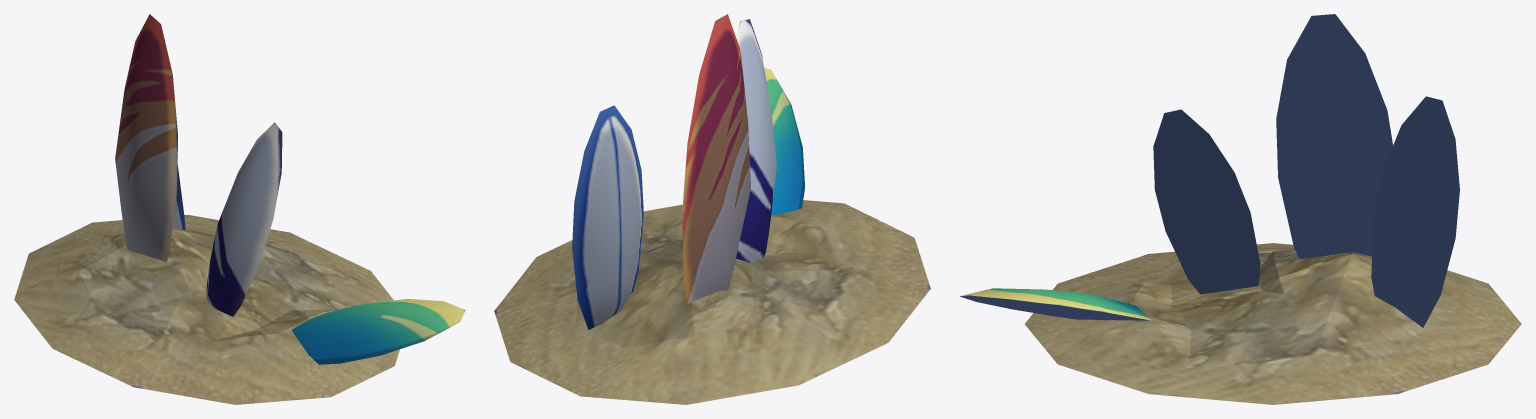
Rendered from scenes_beach_safari01.FBX.
3 renders of one model, left to right at view 1: azimuth 30°, elevation 25°; view 2: azimuth 150°, elevation 25°; view 3: azimuth 270°, elevation 25°, orthographic. The views are drawn at different scales.
Visible parts, largest first — view 1: scenes_beach_safari01; view 2: scenes_beach_safari01; view 3: scenes_beach_safari01.
Boxes of the visible parts, left/top/right/bottom form: scenes_beach_safari01: left=14, top=14, right=465, bottom=404; scenes_beach_safari01: left=494, top=14, right=930, bottom=404; scenes_beach_safari01: left=960, top=14, right=1521, bottom=404.
Bounding box in the file's own units: 464 × 404 × 682.
